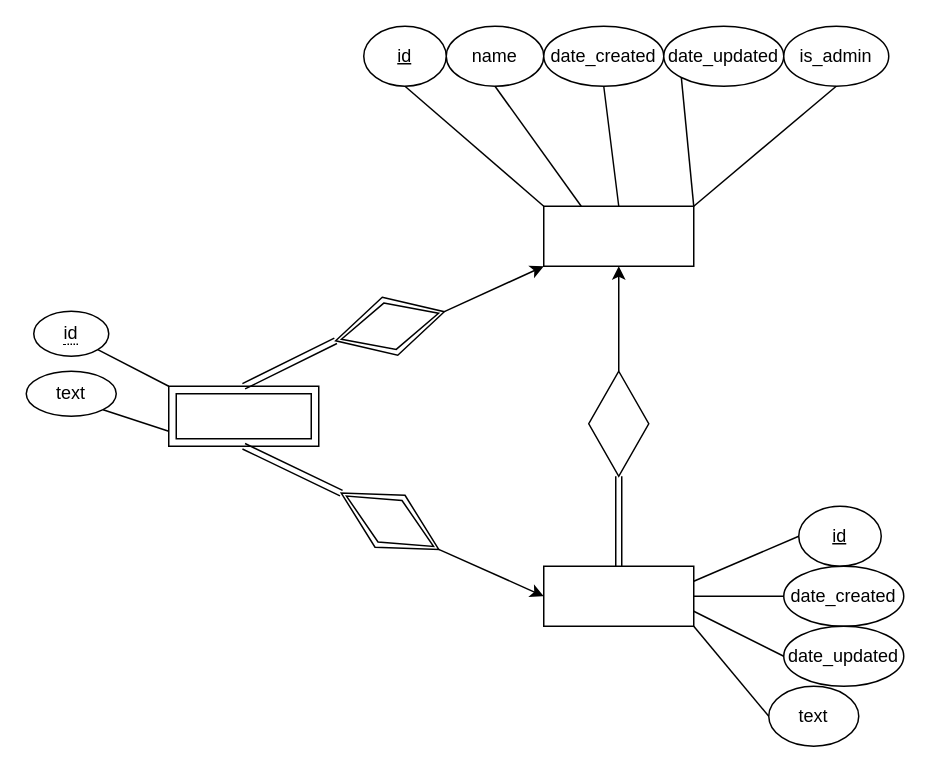
Some shapes in this 930 by 773 pixel diagram are drawn without their labels. The shapes that lost their labels are listed below. From the top down, each one's centre as x and y in pixels, then its label:
the point at 618,235: User
the point at 243,415: Komentar
the point at 618,595: Fora
